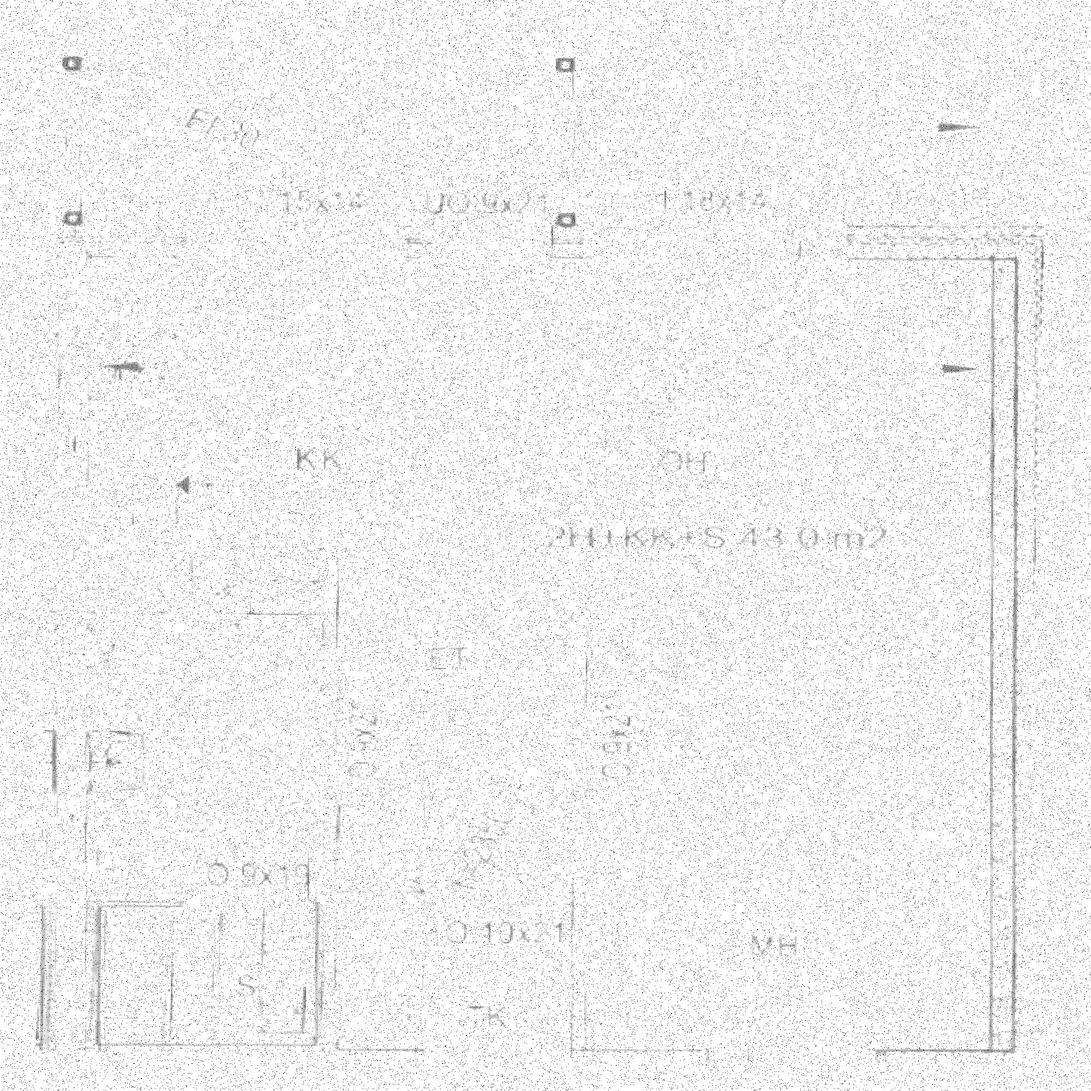wall: (992, 220, 1044, 1077), (57, 221, 1044, 260), (57, 220, 87, 1077), (57, 1051, 1044, 1077), (323, 544, 338, 1077), (574, 613, 589, 1051), (87, 891, 588, 903), (573, 613, 992, 624), (87, 614, 323, 625)
